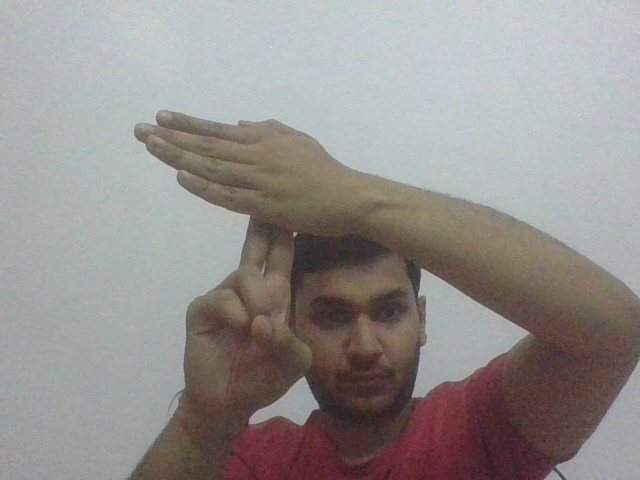N: (128, 98, 297, 271)
